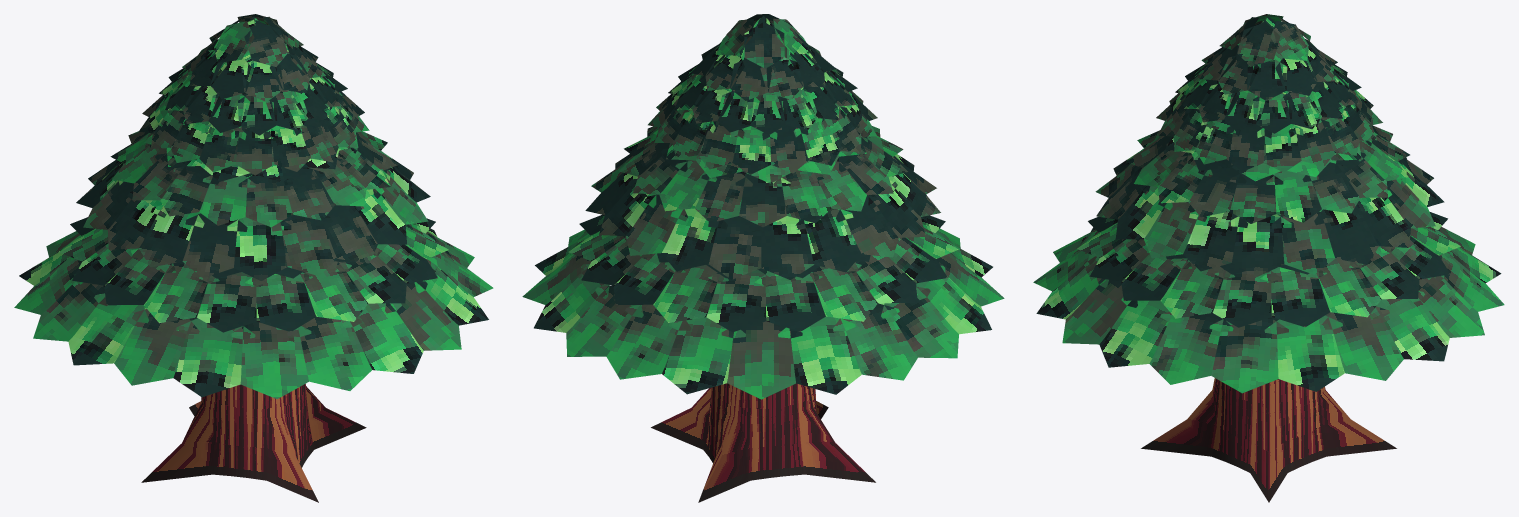
File: tree_dark-forest_003.glb
3 renders of one model, left to right at view 1: azimuth 30°, elevation 25°; view 2: azimuth 150°, elevation 25°; view 3: azimuth 270°, elevation 25°, orthographic.
Visible parts, largest first — view 1: tree_dark-forest_003; view 2: tree_dark-forest_003; view 3: tree_dark-forest_003.
Part boxes in pixels (x1=…): tree_dark-forest_003: x1=14, y1=14, x2=493, y2=502; tree_dark-forest_003: x1=522, y1=14, x2=1004, y2=502; tree_dark-forest_003: x1=1033, y1=14, x2=1504, y2=502.
Size of the model in its own units: 0.9695 by 0.98 by 0.9695.
Materials: 1 (1 with a texture image).
